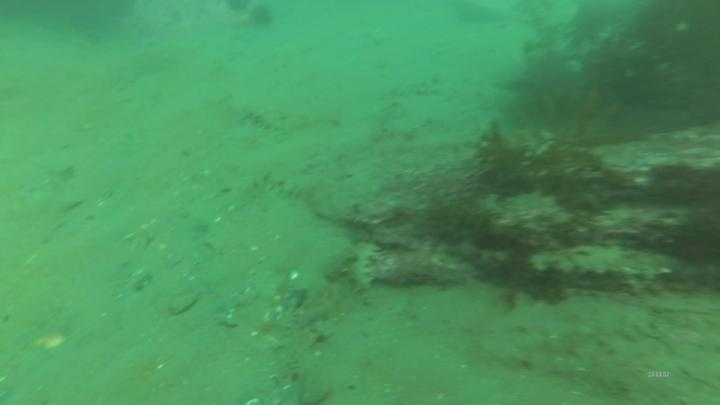holothurian: (341, 236, 382, 297)
